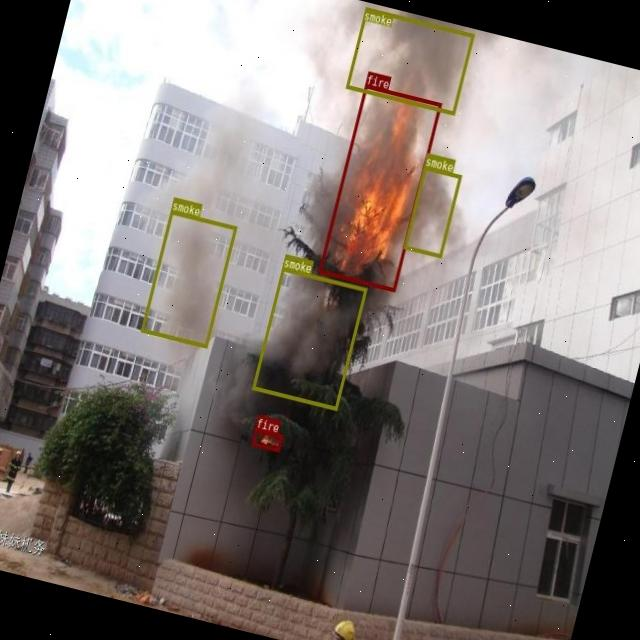fire: (318, 84, 442, 291), (250, 428, 282, 452)
smoke: (252, 266, 366, 409), (345, 6, 473, 114), (140, 208, 237, 348), (403, 166, 461, 256)
